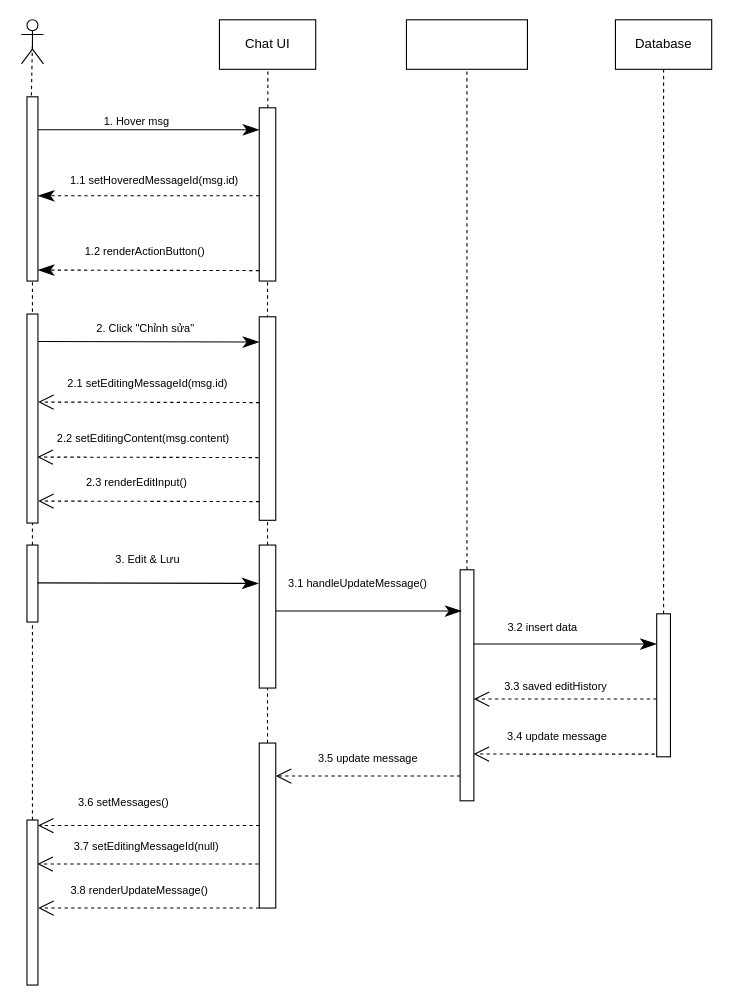
Image size: 732x1004. Some labels were removed from this diagram. Each missing label, with the box of its shape:
Supabase Client: (405, 19, 527, 69)
User: (20, 19, 43, 64)
